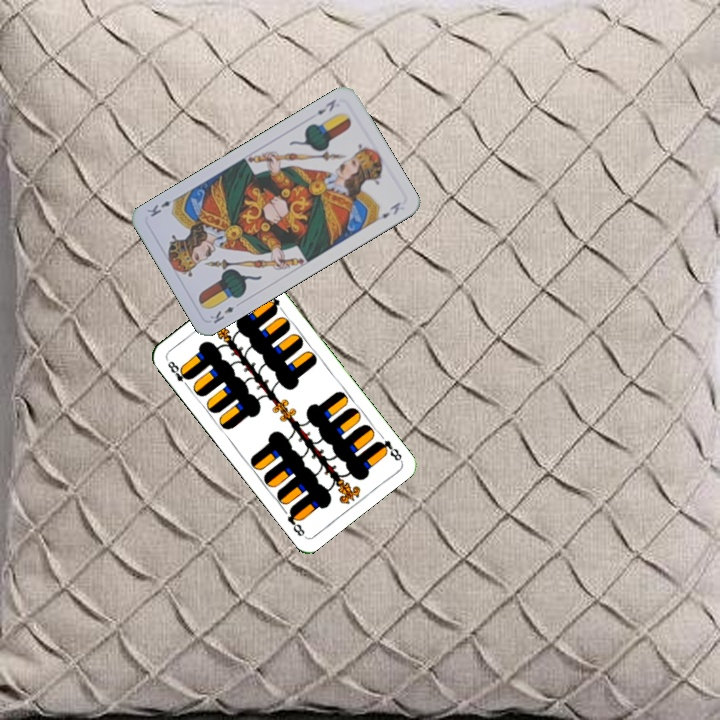E8: (163, 357, 193, 391), (372, 436, 404, 464)
EK: (206, 302, 237, 326), (313, 95, 339, 117)
